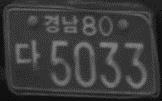0: (74, 40, 97, 88), (99, 15, 113, 36)
3: (123, 41, 148, 89), (99, 41, 121, 88)
5: (49, 40, 72, 86)
8: (82, 15, 97, 36)
경남_O: (44, 14, 79, 33)
다: (15, 39, 40, 72)
